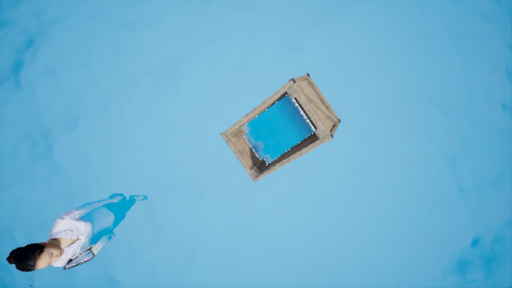person: (5, 193, 153, 271)
